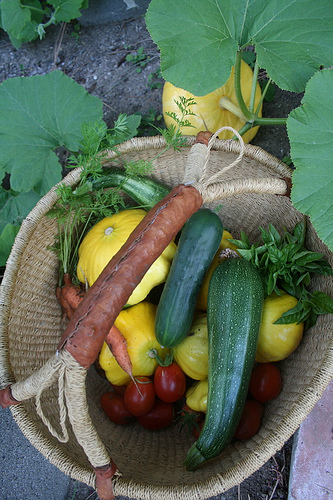cucumber: (185, 254, 260, 467), (150, 204, 220, 352)
